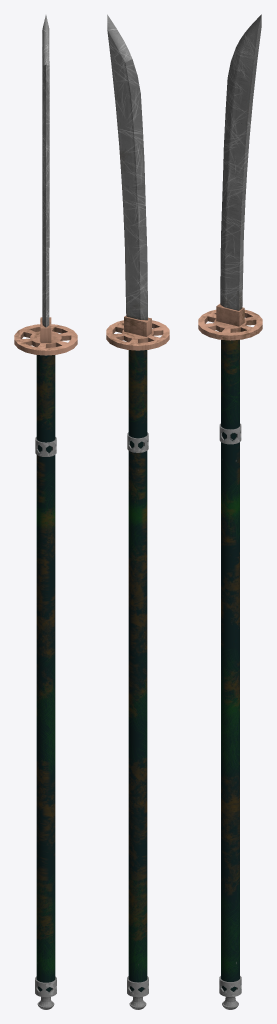
The picture shows the model from 3 angles, left to right: view 1: azimuth 90°, elevation 25°; view 2: azimuth 150°, elevation 25°; view 3: azimuth 330°, elevation 25°; orthographic projection. The views are drawn at different scales.
Parts seen in each view (by area): view 1: Cylinder001; view 2: Cylinder001; view 3: Cylinder001.
Part boxes in pixels (<box>): Cylinder001: <box>14,15,77,1009</box>; Cylinder001: <box>106,14,169,1009</box>; Cylinder001: <box>198,14,262,1009</box>.
Size of the model in its own units: 10.61 by 170 by 9.93.
Materials: 1 (1 with a texture image).
